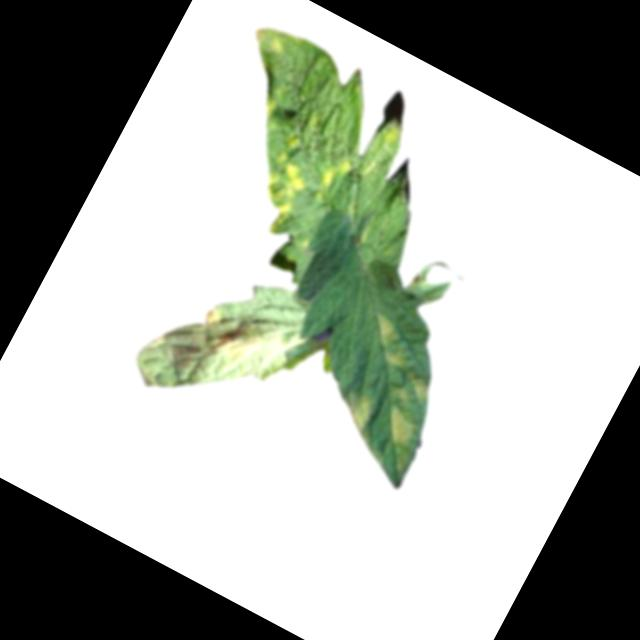Leaf_Mold: (236, 146, 313, 232), (189, 305, 269, 377), (354, 309, 422, 371), (368, 399, 427, 457), (327, 384, 381, 441), (248, 17, 305, 66), (315, 148, 357, 199), (395, 368, 435, 408)
